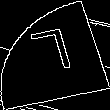L_S: (29, 26, 81, 84)
